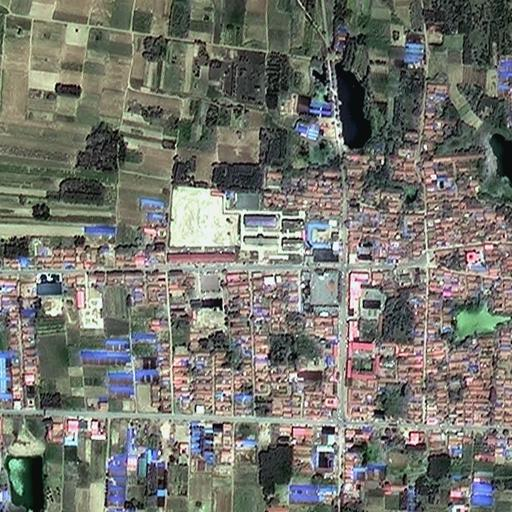school: (166, 183, 304, 261)
